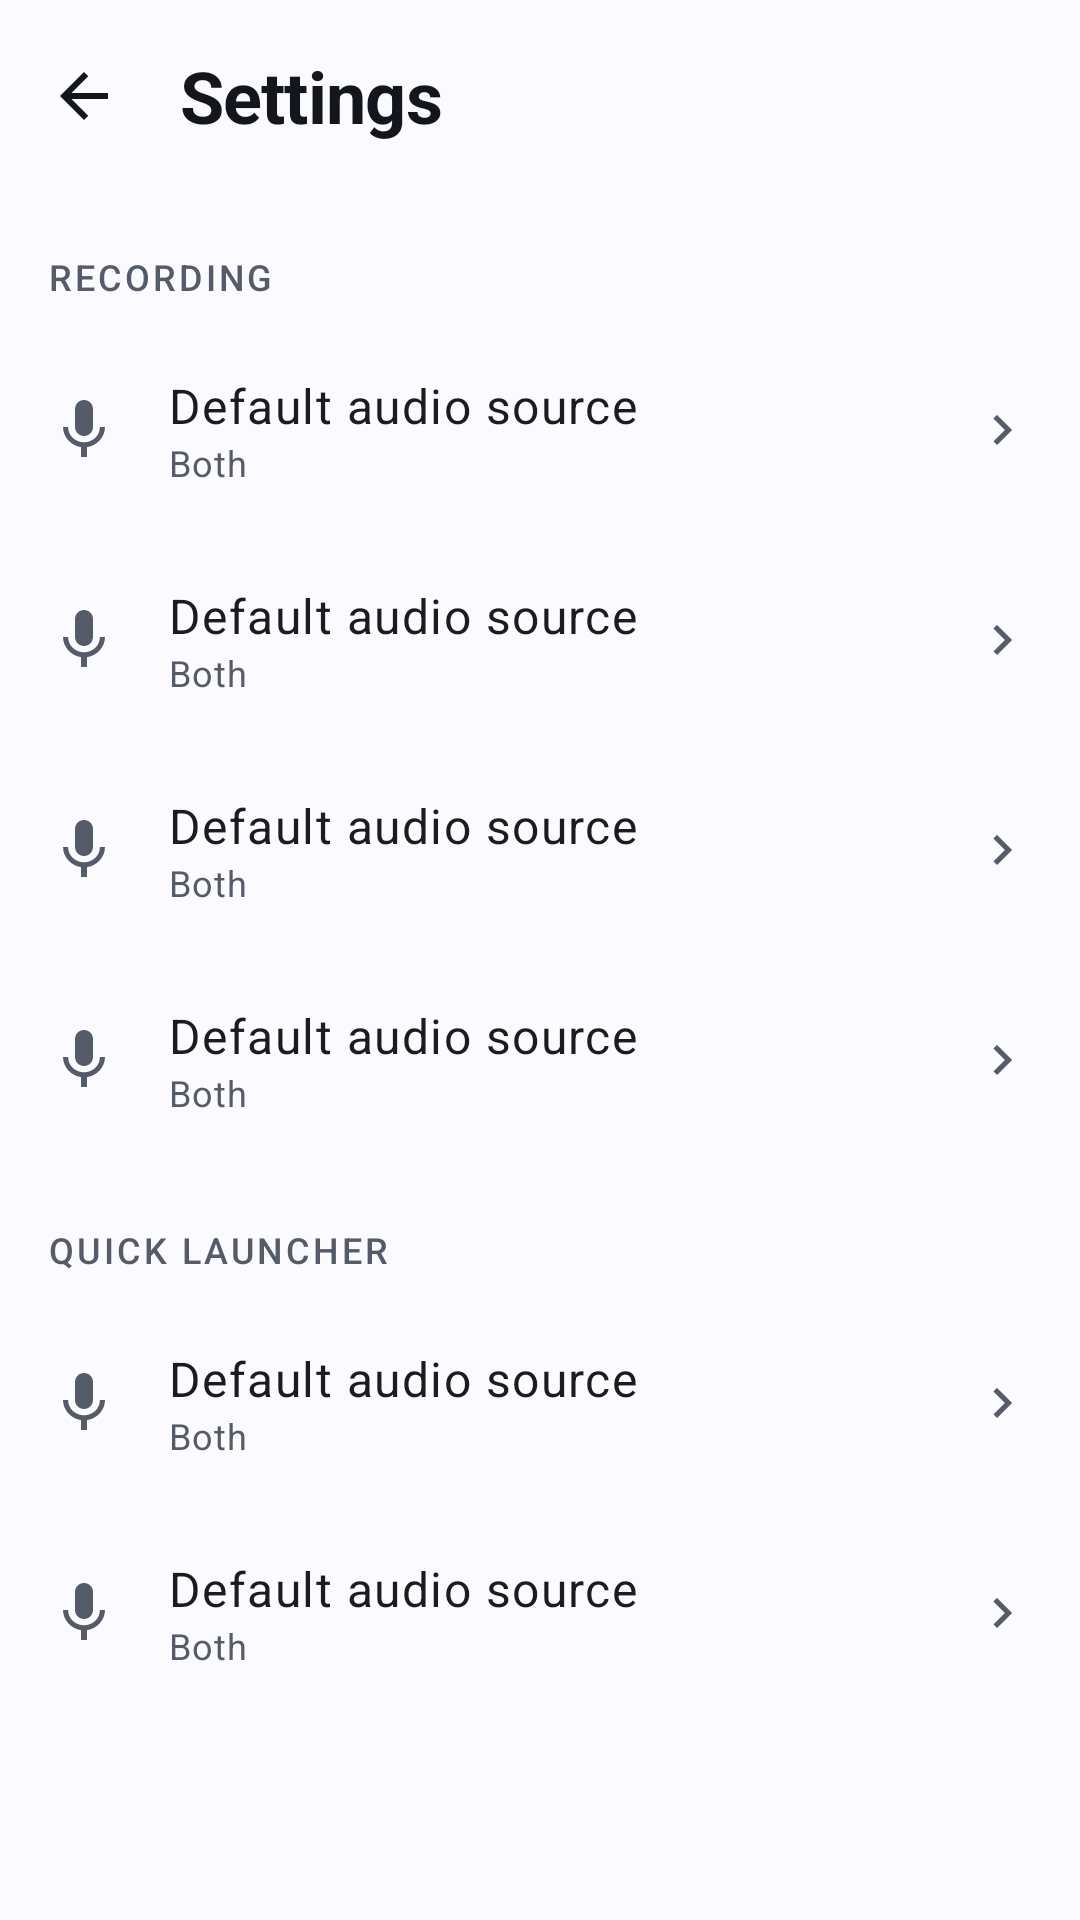

Screen size 1080×1920. Icon name, then its box in pixels as (left=x1, top=y1, right=x2, bottom=y2):
chevron right: (left=993, top=415, right=1012, bottom=445), (left=993, top=625, right=1012, bottom=655), (left=993, top=835, right=1012, bottom=865), (left=993, top=1045, right=1012, bottom=1075), (left=993, top=1388, right=1012, bottom=1418), (left=993, top=1598, right=1012, bottom=1628)
